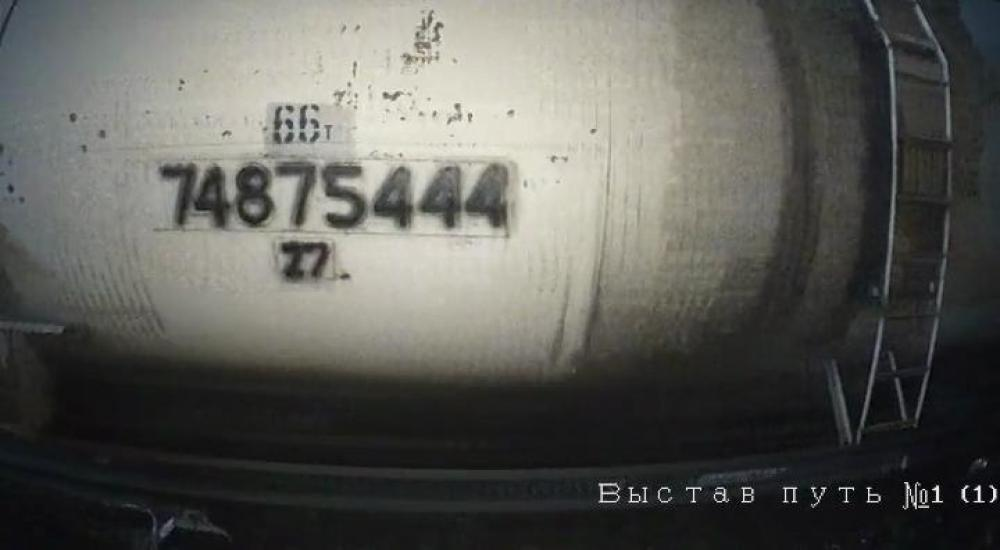Wagon-number: (156, 160, 512, 237)
